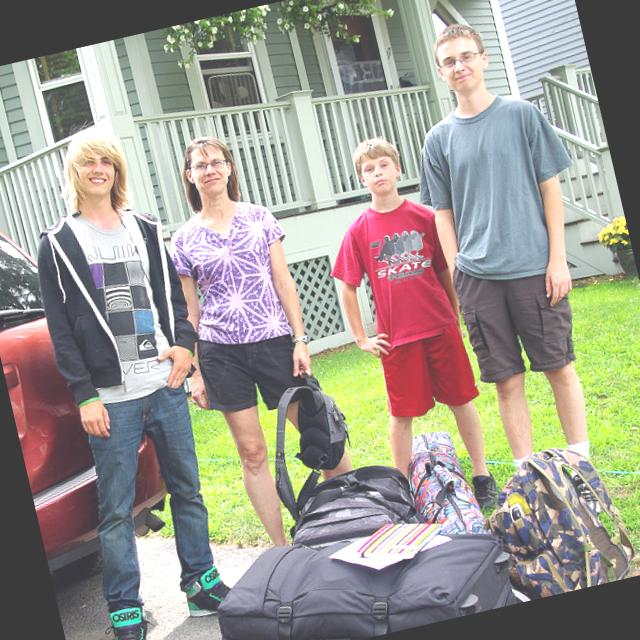Vehicle: (0, 183, 184, 588)
